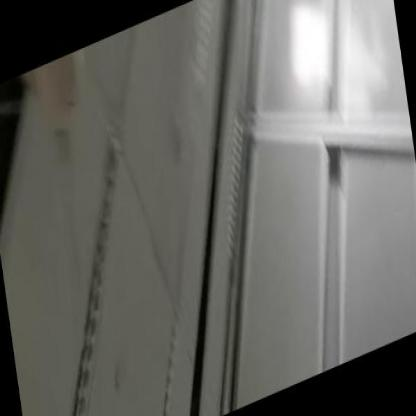light_off: (0, 109, 178, 415)
